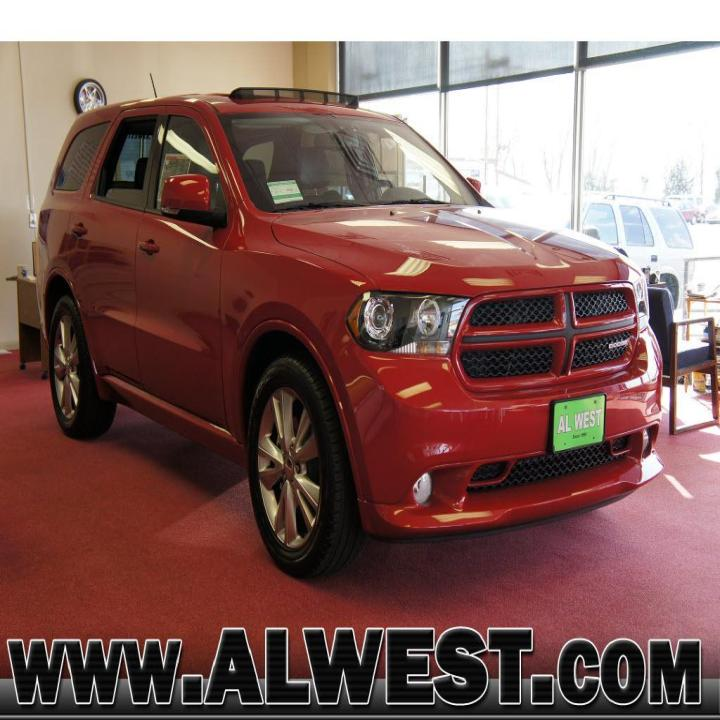car: (33, 83, 665, 578), (559, 191, 695, 316)
plat: (553, 394, 605, 453)
